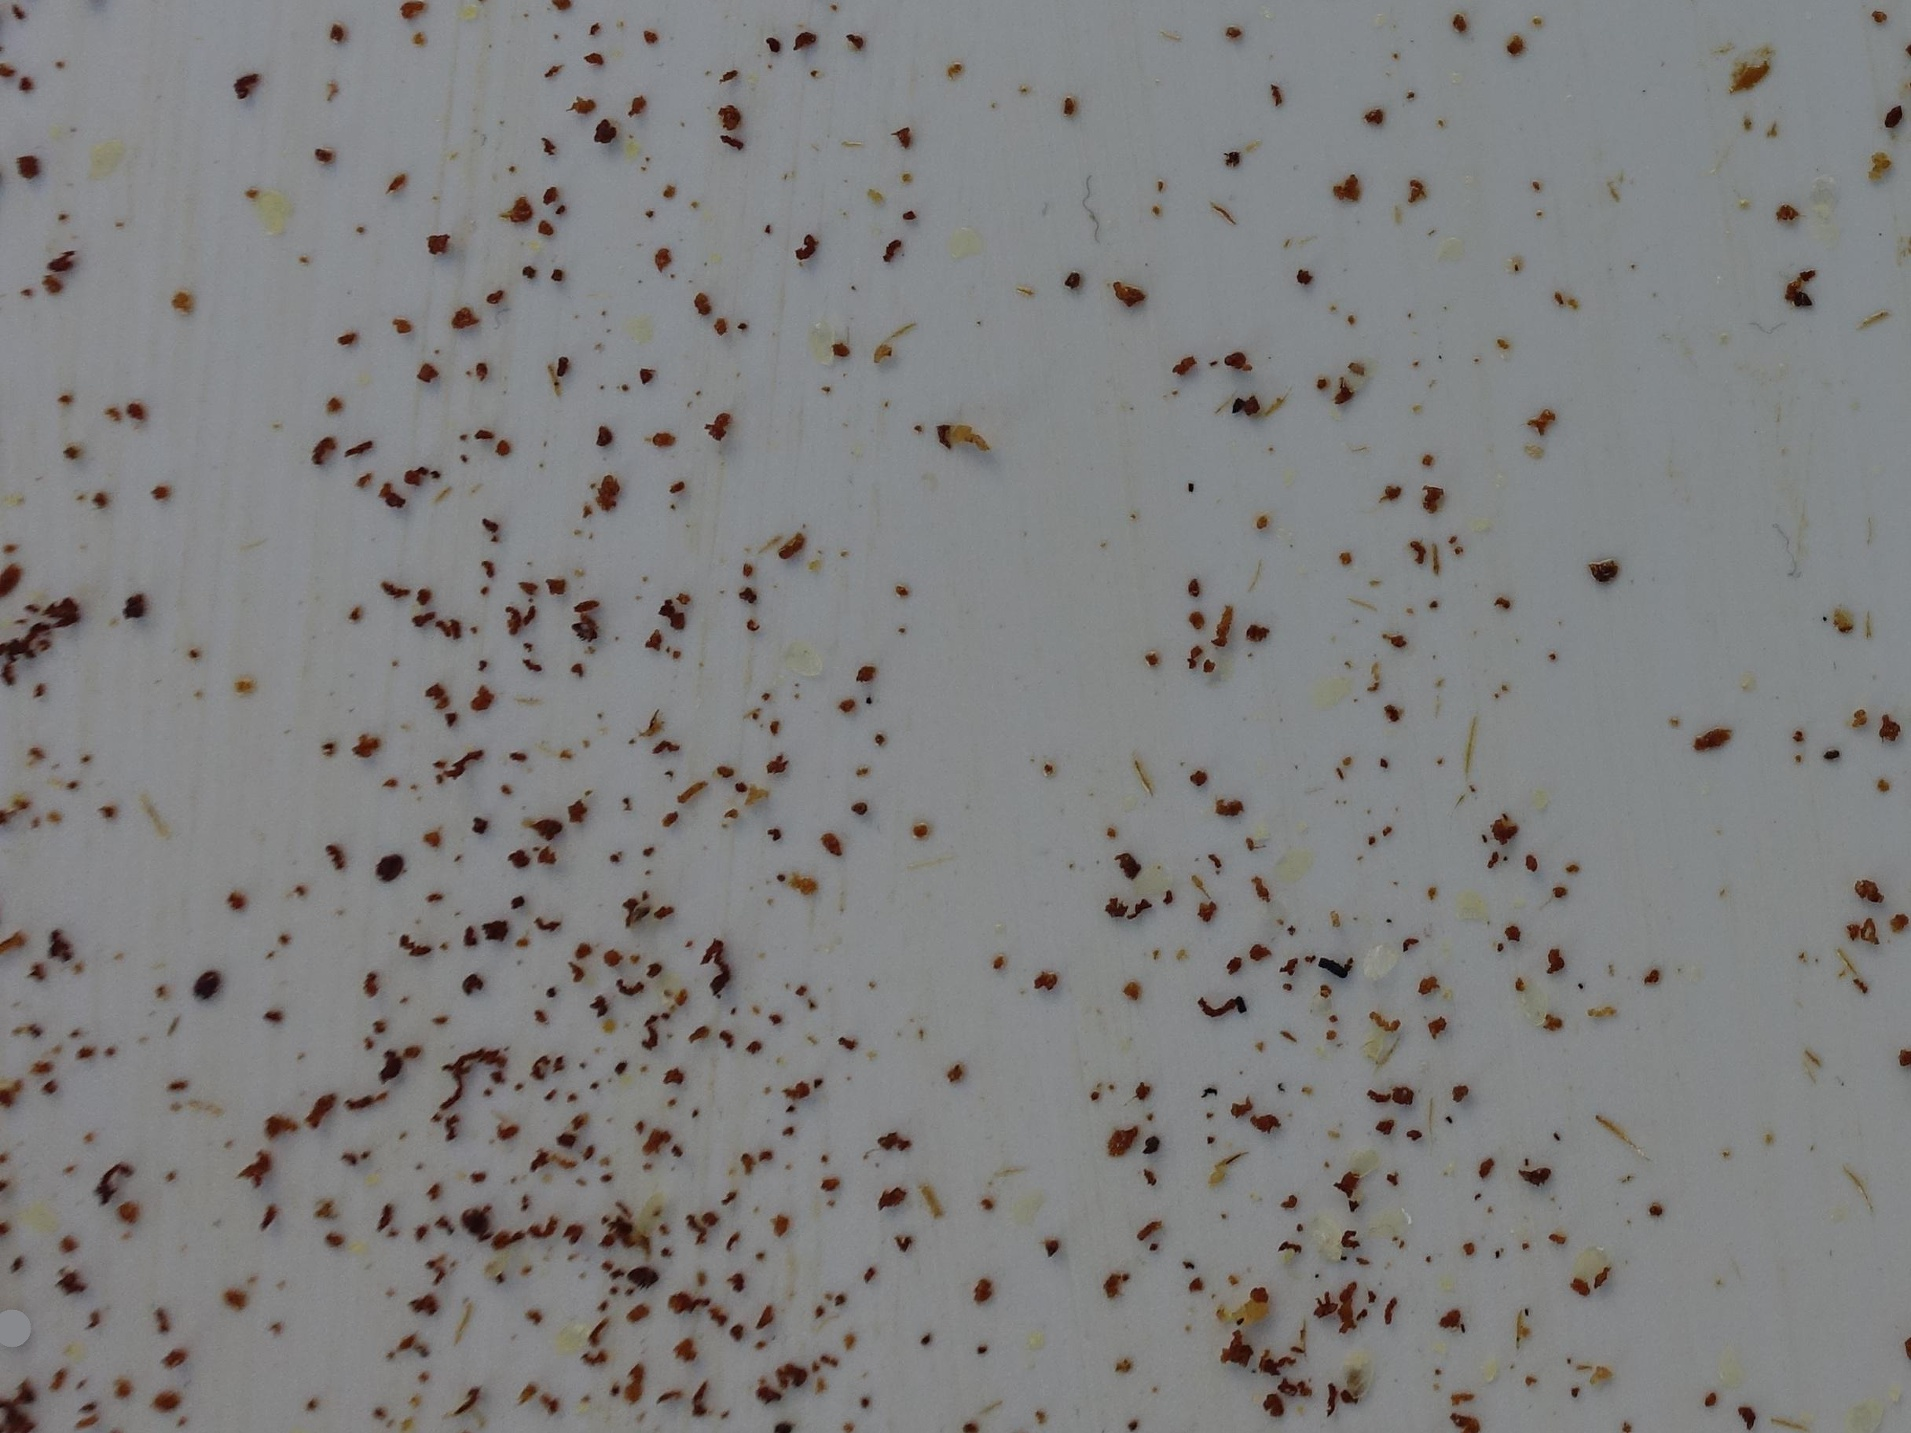Varroa: (563, 613, 602, 650), (630, 1261, 656, 1287), (462, 1212, 485, 1234), (193, 972, 214, 993), (381, 852, 400, 873)
